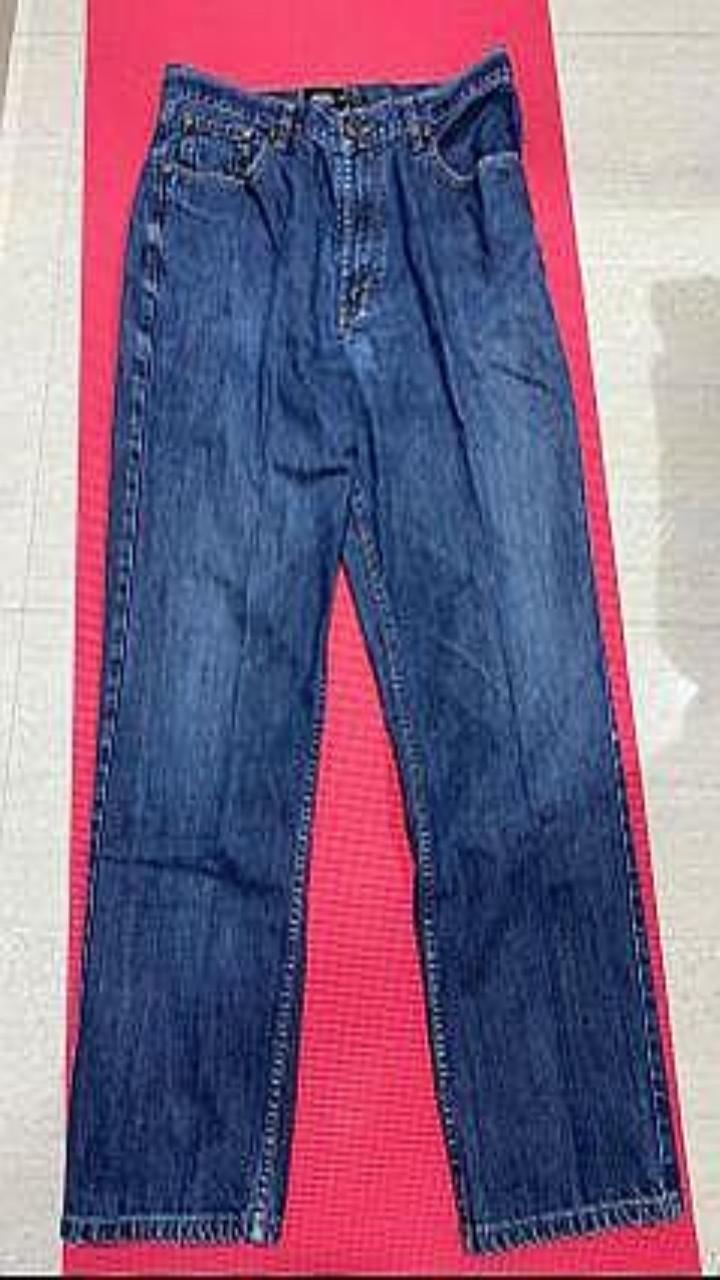Jeans: (62, 50, 680, 1251)
